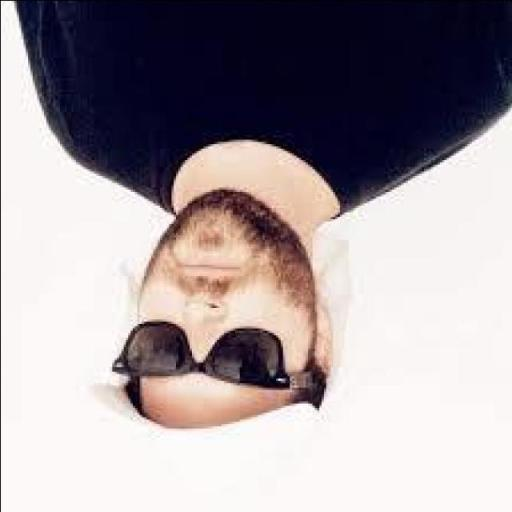glasses: (110, 300, 297, 416)
